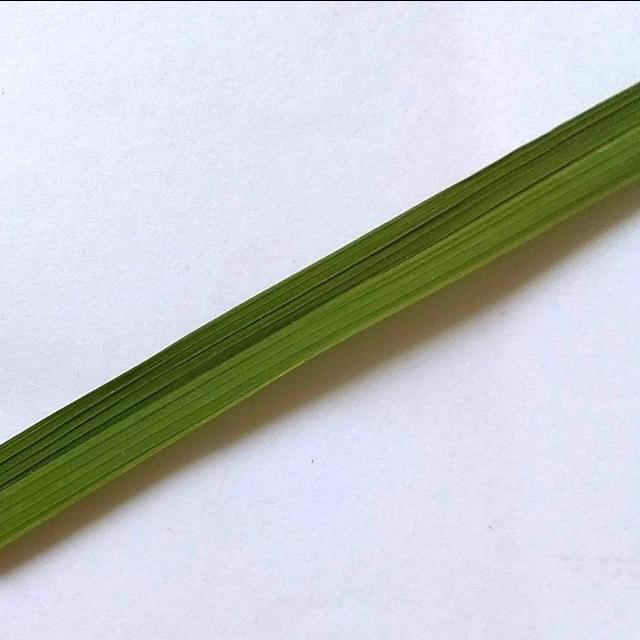healthy: (0, 0, 640, 601)
